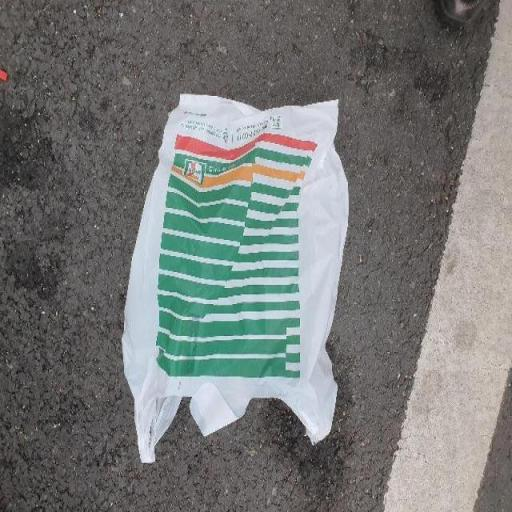plastic-bag: (120, 88, 350, 466)
